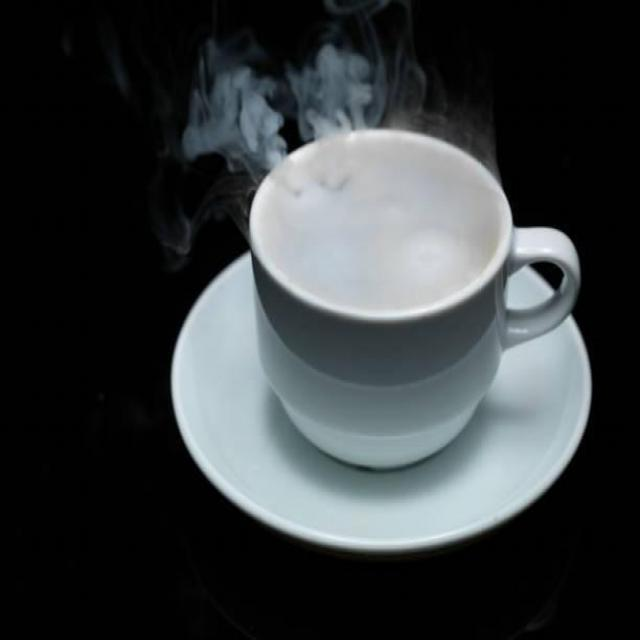cup-handle: (247, 126, 581, 473)
